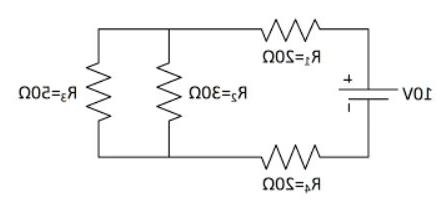Battery: (323, 65, 402, 123)
